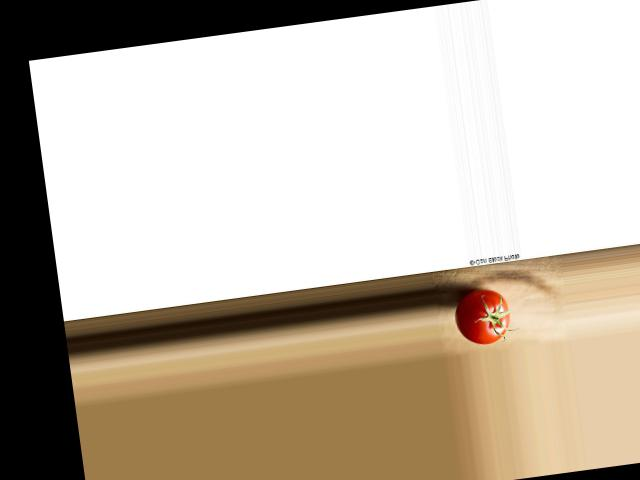tomato: (452, 286, 514, 346)
